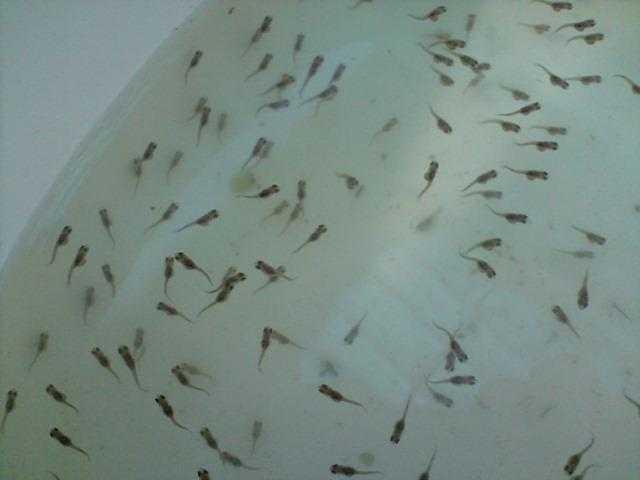fish: (311, 381, 378, 425), (427, 313, 474, 371), (291, 47, 333, 108), (312, 60, 351, 121), (289, 84, 350, 120), (448, 247, 500, 289), (135, 198, 186, 239), (171, 207, 226, 243), (167, 359, 216, 398), (418, 101, 461, 144), (342, 300, 375, 355), (401, 4, 456, 36), (234, 134, 273, 179), (406, 158, 443, 205), (568, 265, 604, 313), (290, 220, 335, 258), (158, 254, 190, 306), (150, 299, 200, 331), (236, 175, 285, 207), (479, 203, 532, 230), (566, 219, 612, 250), (253, 321, 278, 376), (483, 100, 544, 121), (498, 163, 551, 186), (509, 138, 564, 156)
